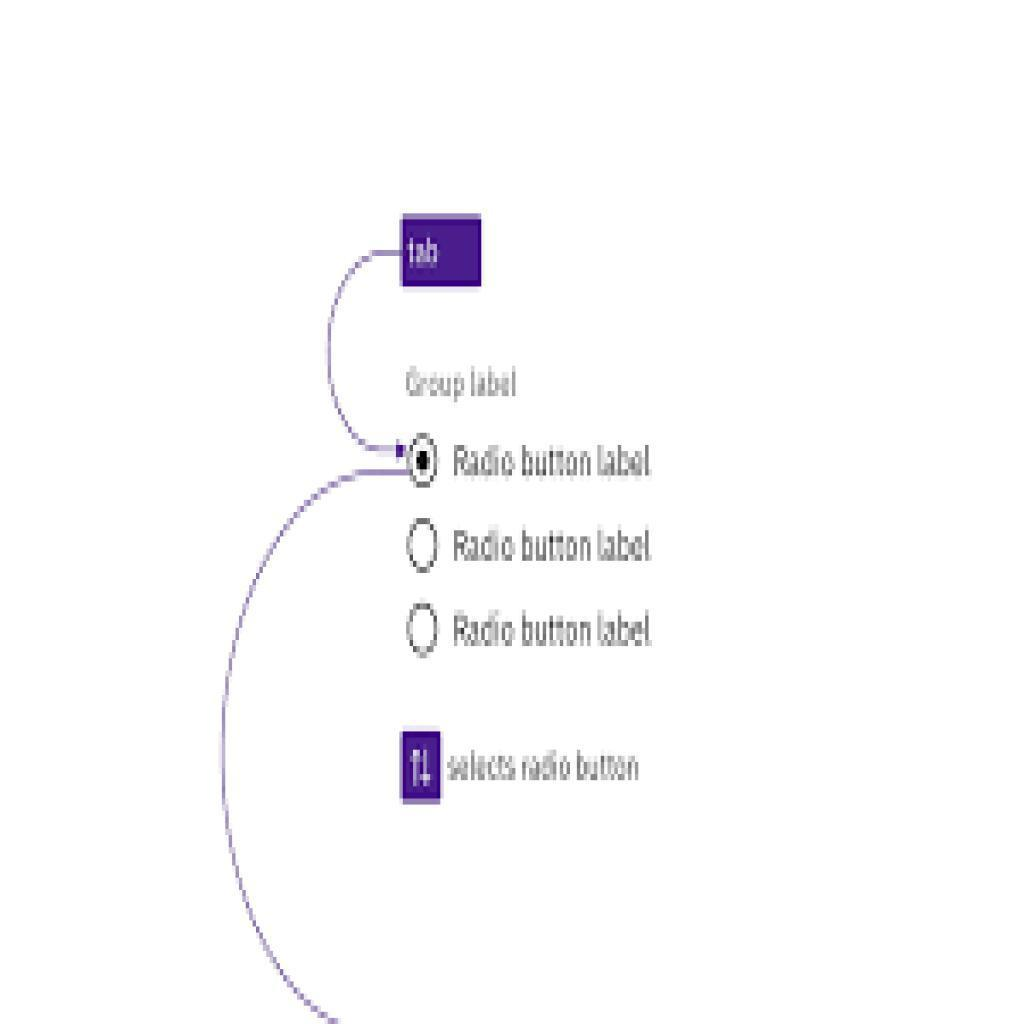label: (452, 612, 665, 656), (454, 441, 656, 486), (449, 524, 654, 568), (446, 751, 644, 791)
radio: (403, 594, 443, 664), (407, 428, 441, 496), (406, 510, 440, 578)
